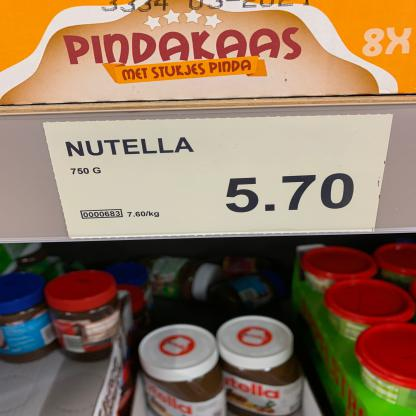prtg: (44, 116, 394, 239)
